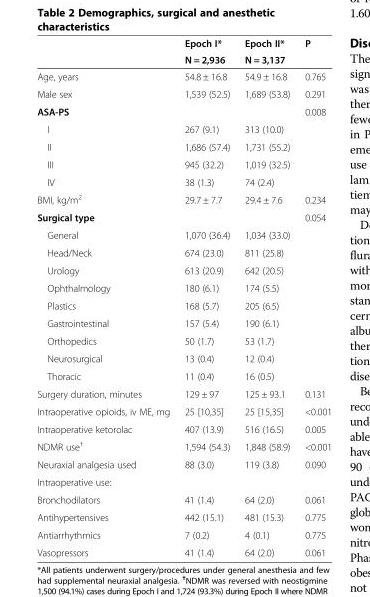table: (36, 37, 331, 557)
table column: (36, 37, 176, 557), (176, 37, 236, 557), (236, 37, 296, 557), (296, 37, 331, 557)
table column header: (36, 37, 331, 67)
table projected row header: (36, 472, 331, 490)
table row: (36, 189, 331, 208), (36, 436, 331, 455), (36, 84, 331, 102), (36, 102, 331, 120), (36, 137, 331, 155), (36, 155, 331, 173), (36, 225, 331, 243), (36, 243, 331, 261), (36, 278, 331, 296), (36, 296, 331, 314), (36, 331, 331, 349), (36, 349, 331, 367), (36, 384, 331, 402), (36, 402, 331, 420), (36, 472, 331, 490), (36, 490, 331, 508), (36, 525, 331, 543), (36, 67, 331, 84), (36, 120, 331, 137), (36, 208, 331, 225), (36, 261, 331, 278), (36, 314, 331, 331), (36, 367, 331, 384), (36, 455, 331, 472), (36, 508, 331, 525), (36, 51, 331, 67), (36, 173, 331, 189), (36, 420, 331, 436), (36, 37, 331, 51), (36, 543, 331, 557)
table spanning cell: (176, 37, 236, 67), (236, 37, 296, 67), (296, 37, 331, 67)
